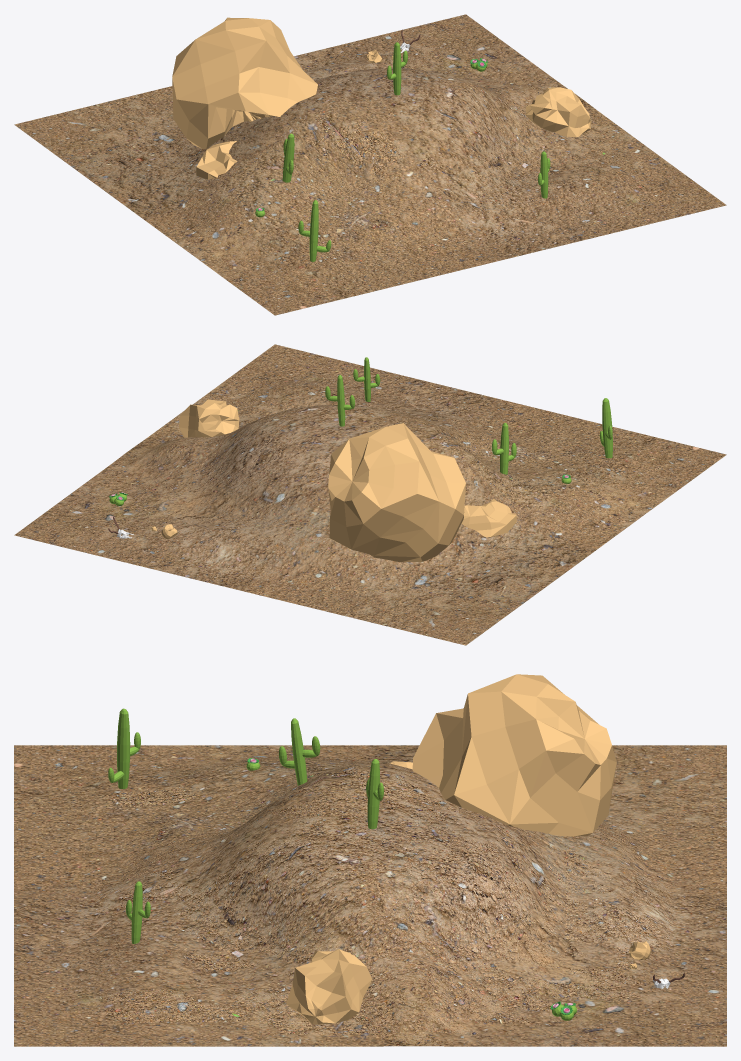
Rendered from SSSS1.fbx.
The picture shows the model from 3 angles, top to bottom: view 1: azimuth 30°, elevation 25°; view 2: azimuth 150°, elevation 25°; view 3: azimuth 270°, elevation 25°; orthographic projection. The views are drawn at different scales.
Visible parts, largest first — view 1: Plane, group1089375564, group1446250878, group1910377098.001, group809628526, group1305359395; view 2: Plane, group1089375564, group1446250878, group1305359395, group1910377098.001, group809628526; view 3: Plane, group1089375564, group1446250878, group1305359395, group809628526, group1910377098.001, group1910377098.
Boxes of the visible parts, left/top/right/bottom form: Plane: left=14, top=14, right=726, bottom=315; group1089375564: left=172, top=17, right=317, bottom=179; group1446250878: left=525, top=87, right=591, bottom=137; group1910377098.001: left=387, top=42, right=407, bottom=95; group809628526: left=309, top=200, right=318, bottom=261; group1305359395: left=282, top=133, right=294, bottom=182; Plane: left=14, top=344, right=726, bottom=645; group1089375564: left=328, top=423, right=516, bottom=562; group1446250878: left=179, top=399, right=239, bottom=437; group1305359395: left=492, top=422, right=516, bottom=474; group1910377098.001: left=325, top=375, right=355, bottom=426; group809628526: left=602, top=398, right=612, bottom=458; Plane: left=14, top=745, right=726, bottom=1046; group1089375564: left=389, top=674, right=616, bottom=836; group1446250878: left=286, top=949, right=372, bottom=1024; group1305359395: left=278, top=718, right=320, bottom=785; group809628526: left=117, top=708, right=130, bottom=788; group1910377098.001: left=366, top=759, right=383, bottom=829; group1910377098: left=126, top=881, right=150, bottom=943.
Bounding box in the file's own units: 500 × 131 × 500.
